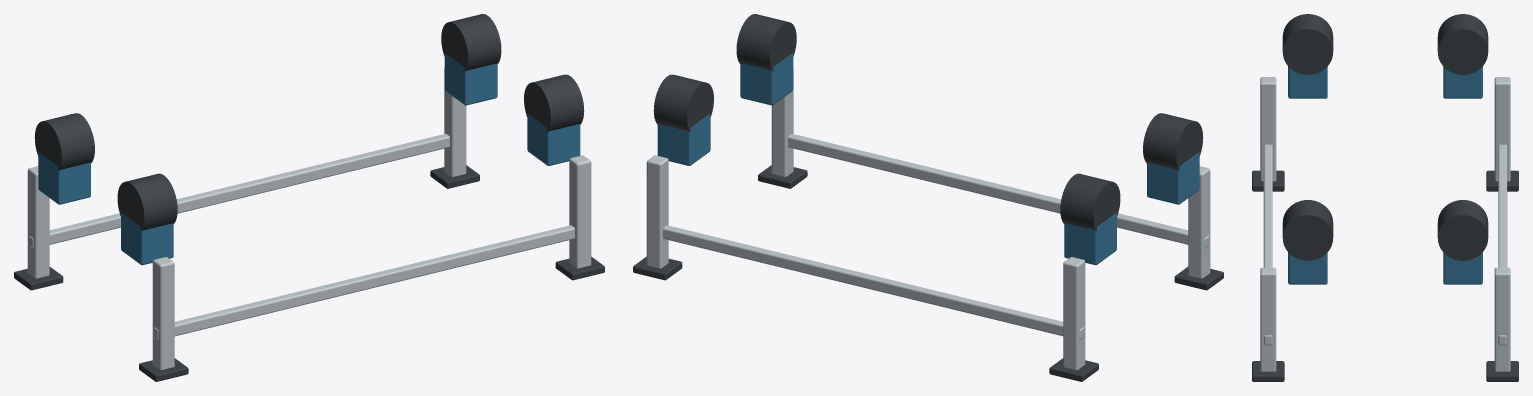
File: recycling-centre-and-material-sorting-drum-support-cra-11152b54__31113.glb
The picture shows the model from 3 angles, left to right: view 1: azimuth 30°, elevation 25°; view 2: azimuth 150°, elevation 25°; view 3: azimuth 270°, elevation 25°; orthographic projection. The views are drawn at different scales.
Parts seen in each view (by area): view 1: drum-support-cradle; view 2: drum-support-cradle; view 3: drum-support-cradle.
Part boxes in pixels (box(x1,y1,x2,y2)): drum-support-cradle: box(14, 14, 604, 381); drum-support-cradle: box(633, 14, 1223, 381); drum-support-cradle: box(1252, 14, 1518, 381).
Bounding box in the file's own units: 2.7 × 1.01 × 1.48.
